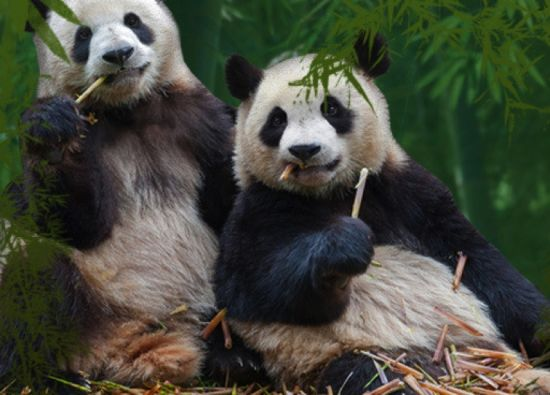panda: (215, 25, 549, 394), (3, 1, 268, 390)
